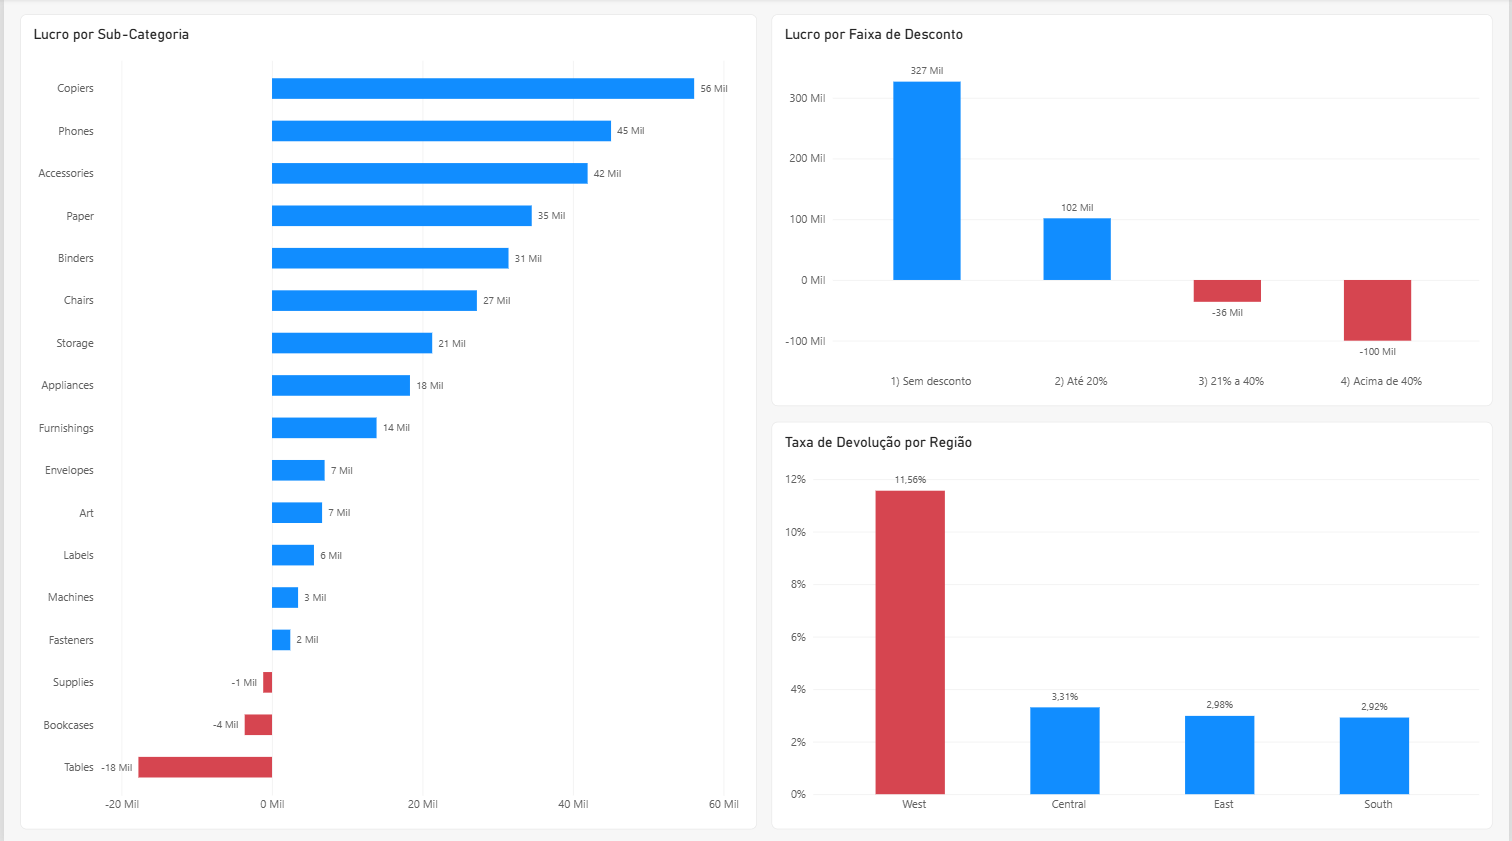

The page's visual inventory and layout, read from the dashboard file:
{"tool":"powerbi","page":{"name":"Página 2","canvas":[1920,1080],"ordinal":1},"visuals":[{"type":"barChart","title":"Lucro por Sub-Categoria","fields":{"Category":["Orders.Sub-Category"],"Y":["Orders.Lucro Total"]},"box":[20,20,940,1040],"z":0},{"type":"columnChart","title":"Lucro por Faixa de Desconto","fields":{"Category":["Orders.Faixa de Desconto"],"Y":["Orders.Lucro Total"]},"box":[980,20,920,500],"z":1000},{"type":"columnChart","title":"Taxa de Devolução por Região","fields":{"Category":["Orders.Region"],"Y":["Orders.Taxa de Devolução"]},"box":[980,540,920,520],"z":2000}]}

Visuals, with their boxes in screenshot pixels (x1, y1, x2, y2), scaled from the page's 1920x1080 canvas onto the 1512x841 screenshot:
"Lucro por Sub-Categoria" barChart: box(16, 16, 756, 825)
"Lucro por Faixa de Desconto" columnChart: box(772, 16, 1496, 405)
"Taxa de Devolução por Região" columnChart: box(772, 420, 1496, 825)
